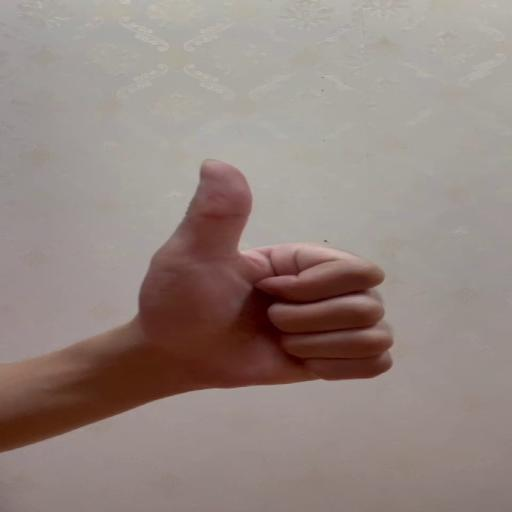thumbs_up: (142, 159, 398, 389)
